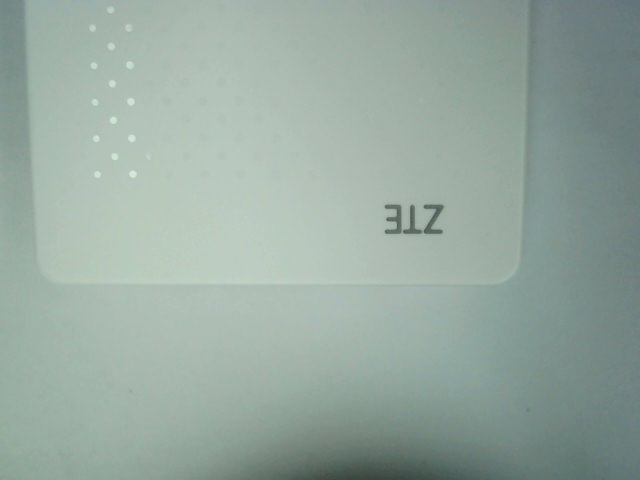AN_ZTE: (381, 196, 448, 243)
